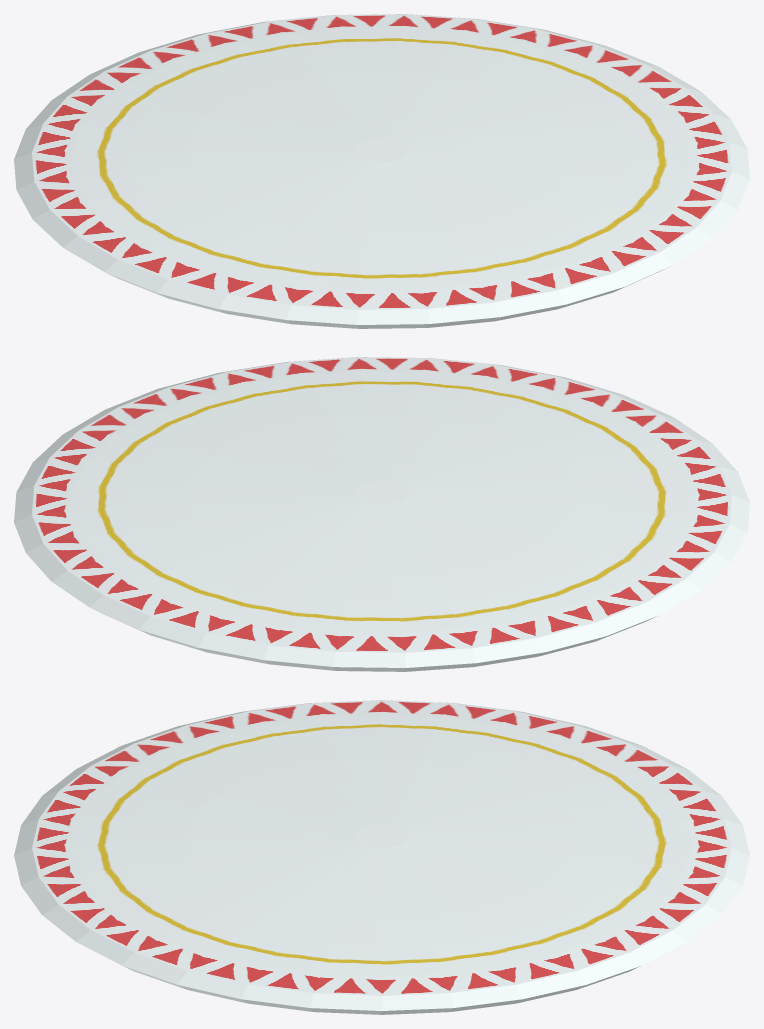
File: landBoss.obj
3 views of the same model, one above another, from view 1: azimuth 30°, elevation 25°; view 2: azimuth 150°, elevation 25°; view 3: azimuth 270°, elevation 25° (orthographic).
Visible parts, largest first — view 1: 圓柱體.003; view 2: 圓柱體.003; view 3: 圓柱體.003.
Part boxes in pixels (<box>): 圓柱體.003: <box>14,14,749,328</box>; 圓柱體.003: <box>14,357,749,671</box>; 圓柱體.003: <box>14,700,749,1014</box>.
Bounding box in the file's own units: 441 × 72.48 × 441.
Materials: 1 (1 with a texture image).
